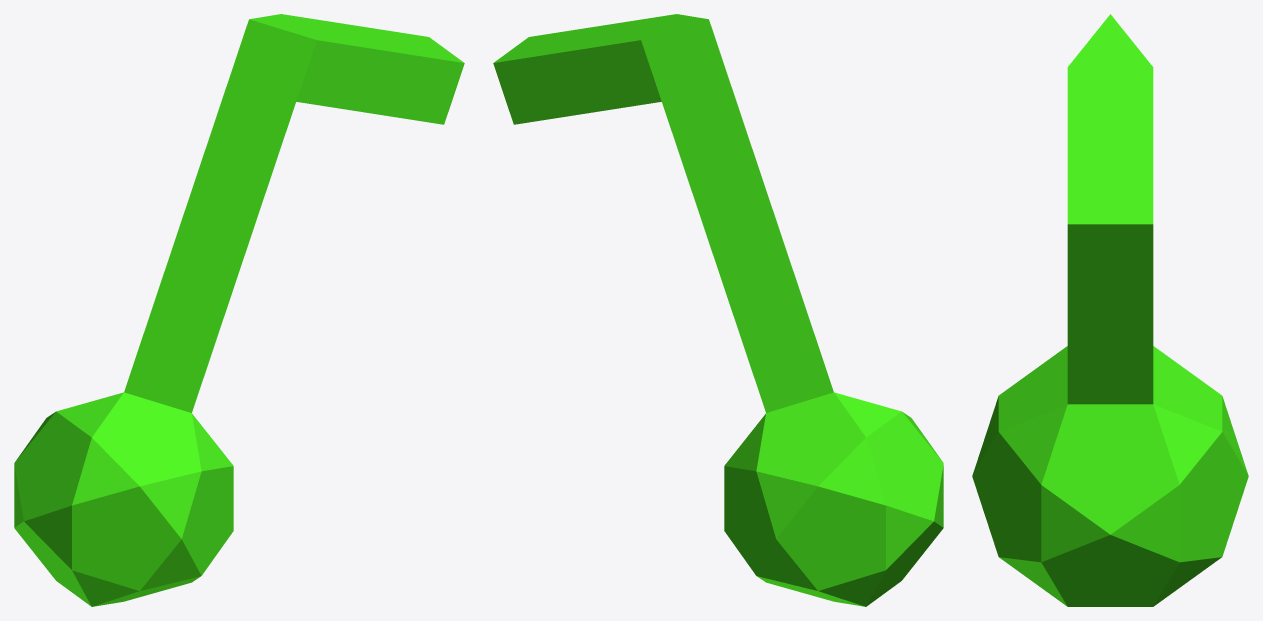
The model's file is MusicNote_Final.FBX.
3 views of the same model, side by side, from view 1: azimuth 30°, elevation 25°; view 2: azimuth 150°, elevation 25°; view 3: azimuth 270°, elevation 25° (orthographic). The views are drawn at different scales.
Parts seen in each view (by area): view 1: A_MusicNote_Final; view 2: A_MusicNote_Final; view 3: A_MusicNote_Final.
Part boxes in pixels (x1=…): A_MusicNote_Final: x1=14, y1=14, x2=464, y2=606; A_MusicNote_Final: x1=493, y1=14, x2=943, y2=606; A_MusicNote_Final: x1=972, y1=14, x2=1248, y2=606.
Bounding box in the file's own units: 340 × 423 × 161.
1 material, 1 textured.
